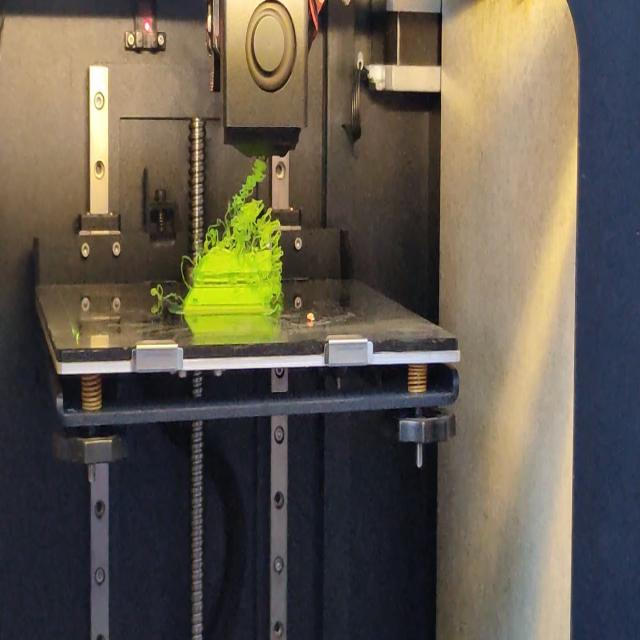spaghetti: (202, 158, 284, 252), (153, 282, 185, 300), (178, 252, 192, 290), (270, 298, 284, 314)
